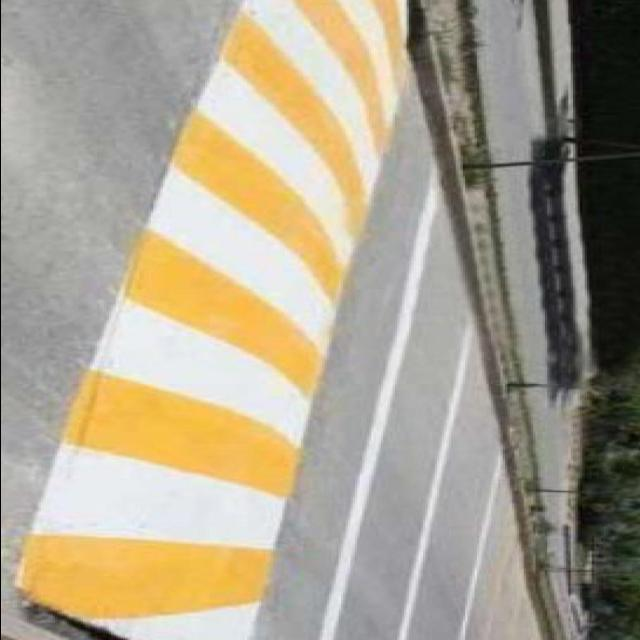Speed_Breaker: (11, 3, 409, 637), (21, 5, 415, 640)
